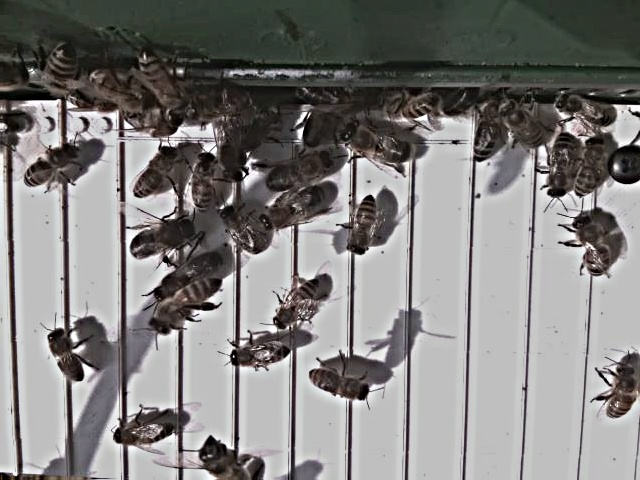Drone: (333, 119, 414, 170), (262, 148, 332, 198), (256, 186, 325, 235), (126, 217, 193, 265)
Worker: (146, 279, 223, 340), (566, 214, 613, 285), (20, 142, 83, 192), (269, 275, 323, 333), (129, 147, 177, 203), (342, 194, 382, 260), (304, 366, 371, 404), (44, 325, 86, 384), (214, 205, 261, 256), (224, 339, 294, 372), (544, 130, 575, 204), (601, 364, 638, 425), (574, 134, 609, 198), (108, 417, 174, 449), (470, 99, 501, 167), (188, 152, 218, 219)
